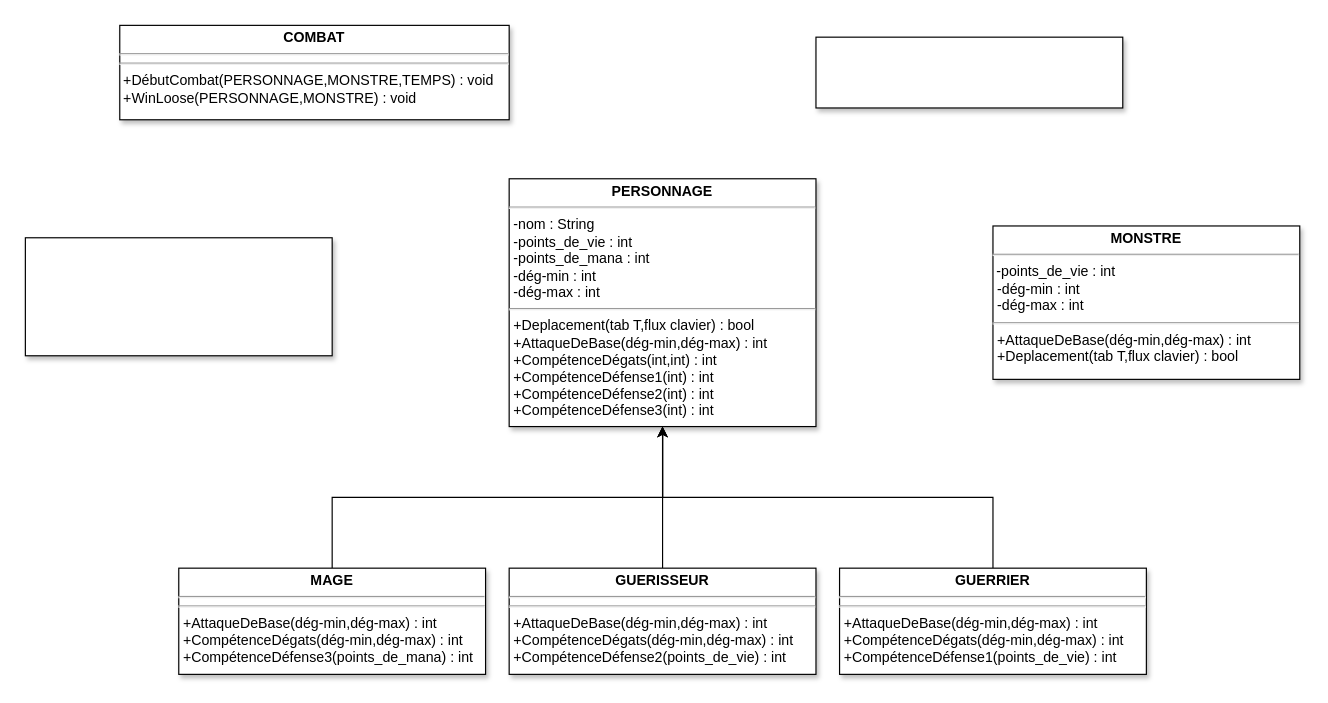
Image size: 1328x703. Some labels were removed from this diagram. The centre of each missing label's shape, as x and y in pixels:
"CARTE -tableau : objet -taille : int +Initialisation_Tab(fichier) : void" belongs at point 179,298.
"OBJET : OBSTACLE -nom : string" belongs at point 970,73.
